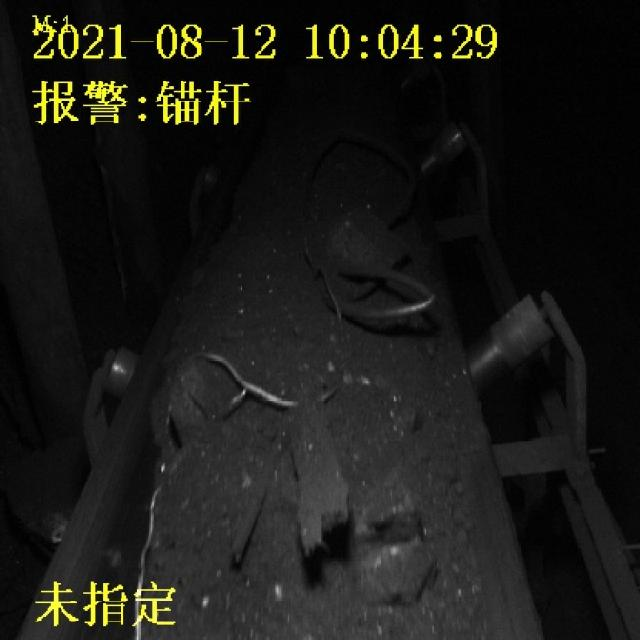bolt: (198, 249, 342, 414), (280, 404, 351, 550), (305, 257, 437, 329), (226, 442, 288, 566)
large_sized_coal: (352, 491, 430, 603), (332, 211, 405, 274)
